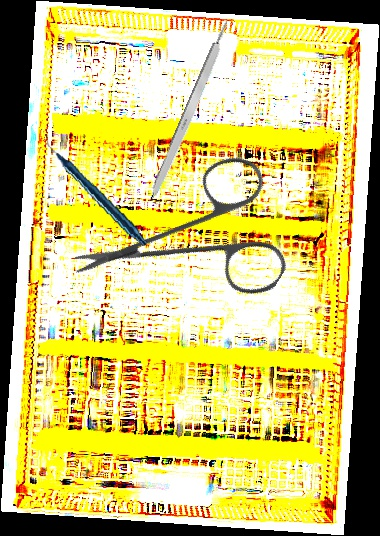Handpiece: (45, 122, 148, 258)
Iris Scissors: (68, 109, 325, 366)
Scalpel Handle: (145, 15, 237, 206)
